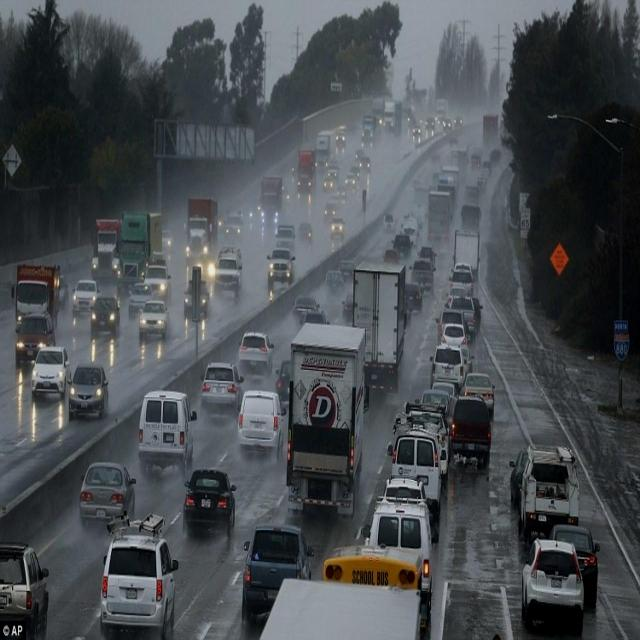Car: (350, 492, 434, 628), (100, 511, 180, 638), (240, 520, 313, 624), (514, 440, 582, 546), (521, 534, 586, 632), (137, 388, 197, 477), (388, 427, 446, 514), (0, 538, 50, 637), (182, 466, 238, 538), (80, 460, 135, 530), (236, 387, 285, 462), (448, 392, 493, 468), (399, 403, 450, 467), (67, 361, 110, 419), (200, 360, 244, 415), (30, 344, 70, 402), (15, 311, 56, 366), (460, 370, 496, 420), (238, 331, 274, 379), (138, 298, 171, 342), (509, 447, 532, 509), (89, 294, 121, 338), (267, 246, 295, 296), (142, 261, 172, 306), (184, 276, 209, 322), (438, 322, 468, 357), (72, 279, 100, 316), (128, 281, 155, 319), (430, 378, 460, 412), (410, 258, 434, 297), (274, 359, 292, 406), (218, 245, 243, 278), (446, 282, 472, 313), (451, 262, 475, 292), (324, 268, 346, 298), (469, 296, 484, 339), (404, 281, 423, 314), (274, 224, 296, 252), (223, 211, 244, 238), (417, 245, 437, 273), (392, 232, 412, 258), (460, 345, 474, 379), (324, 198, 342, 224), (342, 293, 358, 322), (297, 170, 312, 200), (304, 310, 328, 328), (338, 258, 355, 283), (330, 217, 346, 242), (58, 274, 69, 309), (324, 168, 340, 191), (401, 225, 417, 247), (355, 147, 371, 168), (344, 173, 359, 195), (298, 222, 313, 244), (150, 250, 168, 268), (256, 198, 269, 222), (161, 230, 173, 256), (405, 109, 417, 134), (382, 212, 396, 233), (245, 205, 257, 229), (403, 212, 419, 230), (469, 146, 482, 168), (271, 208, 284, 229), (362, 128, 374, 150), (476, 170, 488, 192), (384, 248, 399, 265), (335, 184, 347, 205), (373, 111, 385, 132), (326, 157, 339, 175), (281, 182, 291, 204), (490, 147, 502, 165), (431, 145, 442, 164), (348, 163, 360, 179), (412, 126, 422, 145), (439, 117, 452, 131), (426, 117, 436, 135), (436, 112, 446, 130), (431, 171, 441, 188), (481, 159, 491, 175), (386, 118, 396, 133), (336, 124, 346, 138), (291, 163, 297, 182), (449, 135, 458, 147), (183, 220, 189, 238), (453, 116, 463, 126)
Truck: (284, 322, 370, 521), (350, 254, 407, 377), (120, 207, 162, 287), (183, 195, 219, 262), (450, 224, 484, 289), (422, 191, 453, 261), (90, 217, 121, 276)
